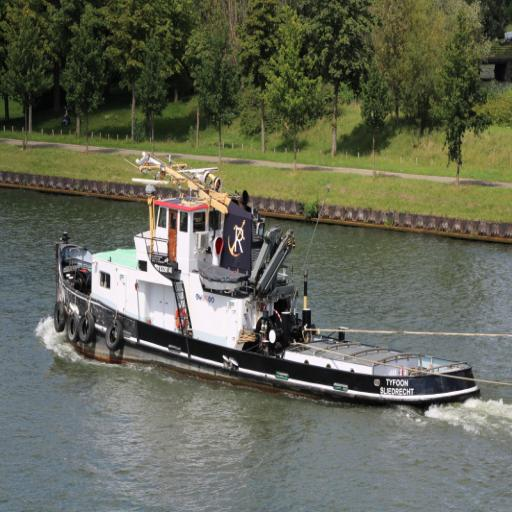tugboat: (51, 150, 486, 422)
